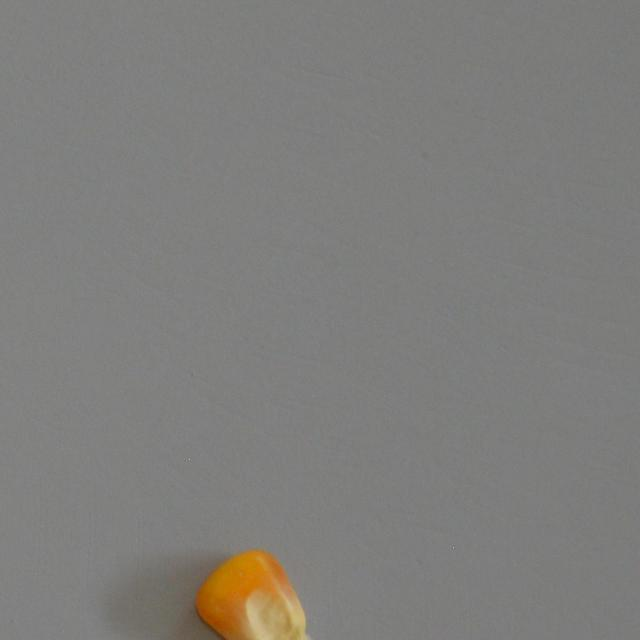entero: (193, 546, 316, 640)
